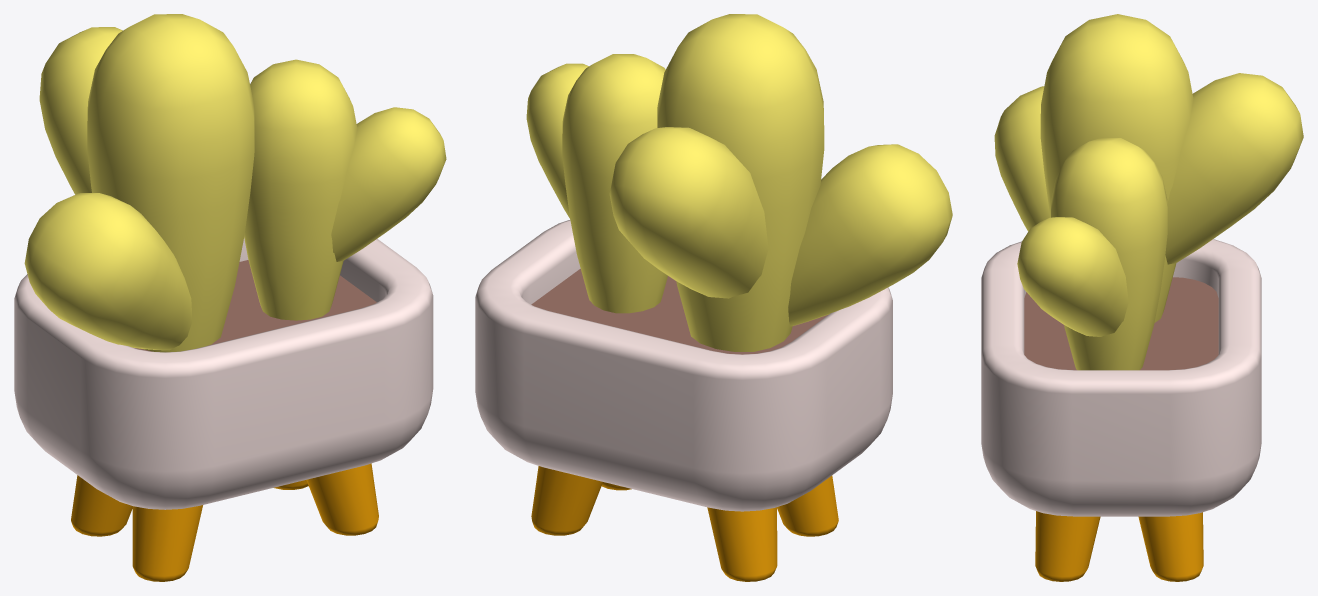
Rendered from City_19_Plant_1.glb.
The picture shows the model from 3 angles, left to right: view 1: azimuth 30°, elevation 25°; view 2: azimuth 150°, elevation 25°; view 3: azimuth 270°, elevation 25°; orthographic projection. The views are drawn at different scales.
Visible parts, largest first — view 1: City_19_Plant_1; view 2: City_19_Plant_1; view 3: City_19_Plant_1.
Part boxes in pixels (x1,y1,x2,y2): City_19_Plant_1: (14, 14, 446, 581); City_19_Plant_1: (475, 14, 952, 581); City_19_Plant_1: (981, 14, 1303, 581).
Bounding box in the file's own units: 1.08 × 1.32 × 0.7927.
1 material, 1 textured.
